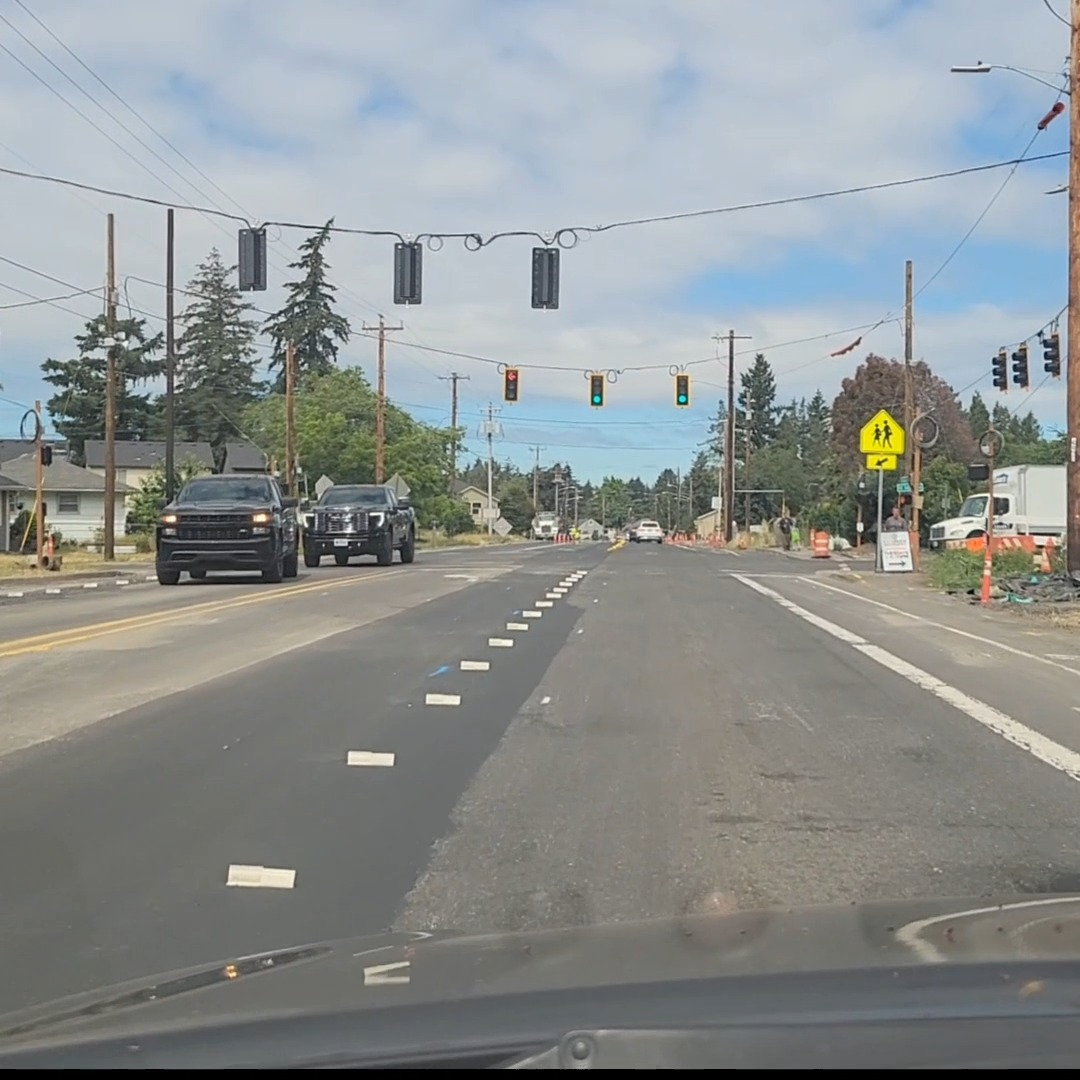car: (153, 475, 303, 584), (302, 483, 416, 566), (626, 519, 664, 543)
crosswalk-sign: (858, 409, 904, 456)
delineator: (979, 537, 993, 604), (1039, 536, 1053, 573), (43, 533, 54, 568)
